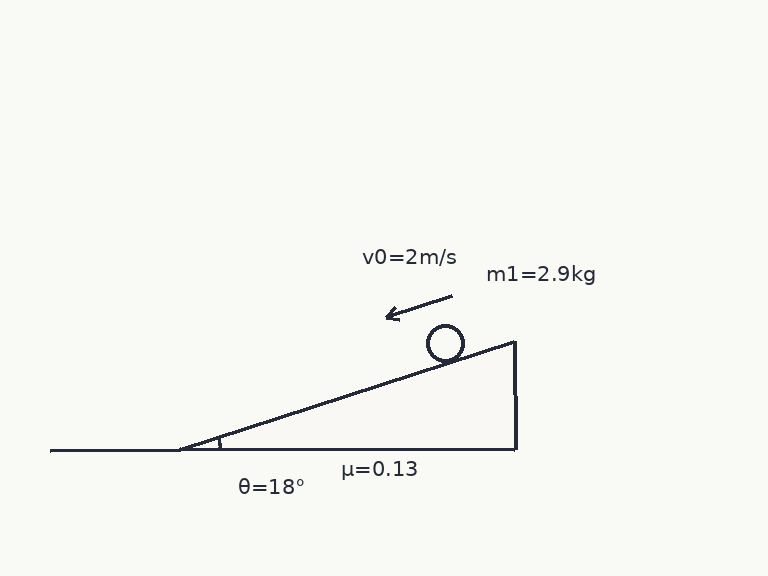ball: (424, 322, 466, 364)
ramp: (178, 339, 516, 451)
